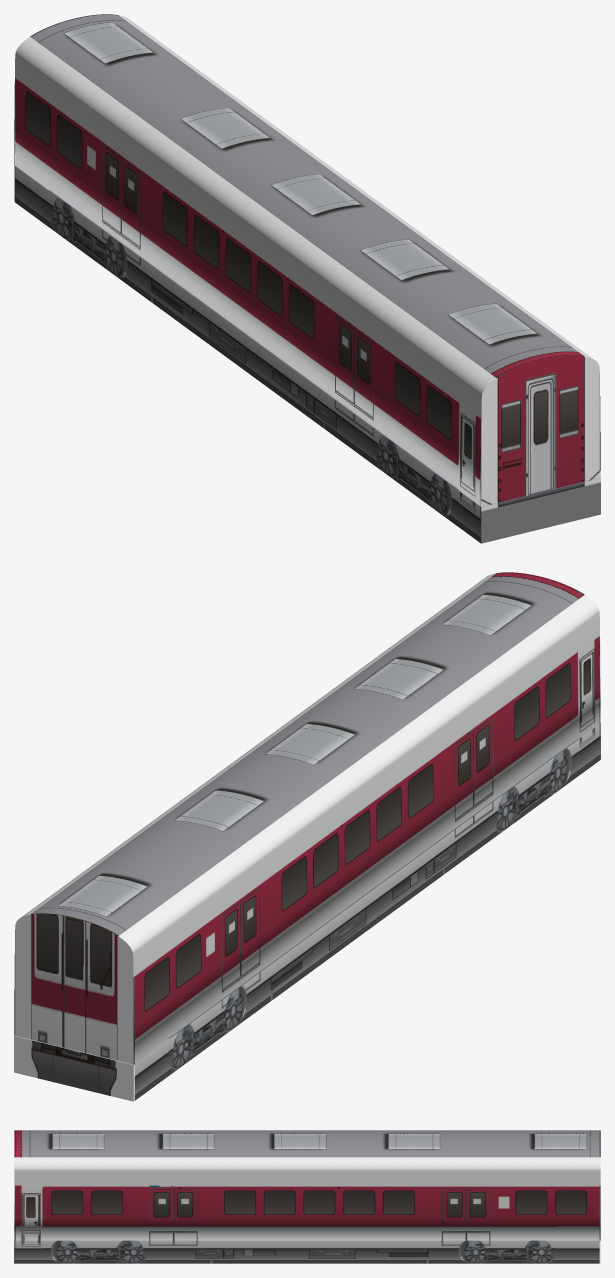
File: car2.glb
The picture shows the model from 3 angles, top to bottom: view 1: azimuth 30°, elevation 25°; view 2: azimuth 150°, elevation 25°; view 3: azimuth 270°, elevation 25°; orthographic projection. The views are drawn at different scales.
Visible parts, largest first — view 1: iga-860-car2; view 2: iga-860-car2; view 3: iga-860-car2.
Part boxes in pixels (x1,y1,x2,y2): iga-860-car2: (14, 14, 600, 543); iga-860-car2: (14, 572, 600, 1101); iga-860-car2: (14, 1130, 600, 1263).
Bounding box in the file's own units: 2.74 × 3.69 × 18.53.
9 materials, 8 textured.
